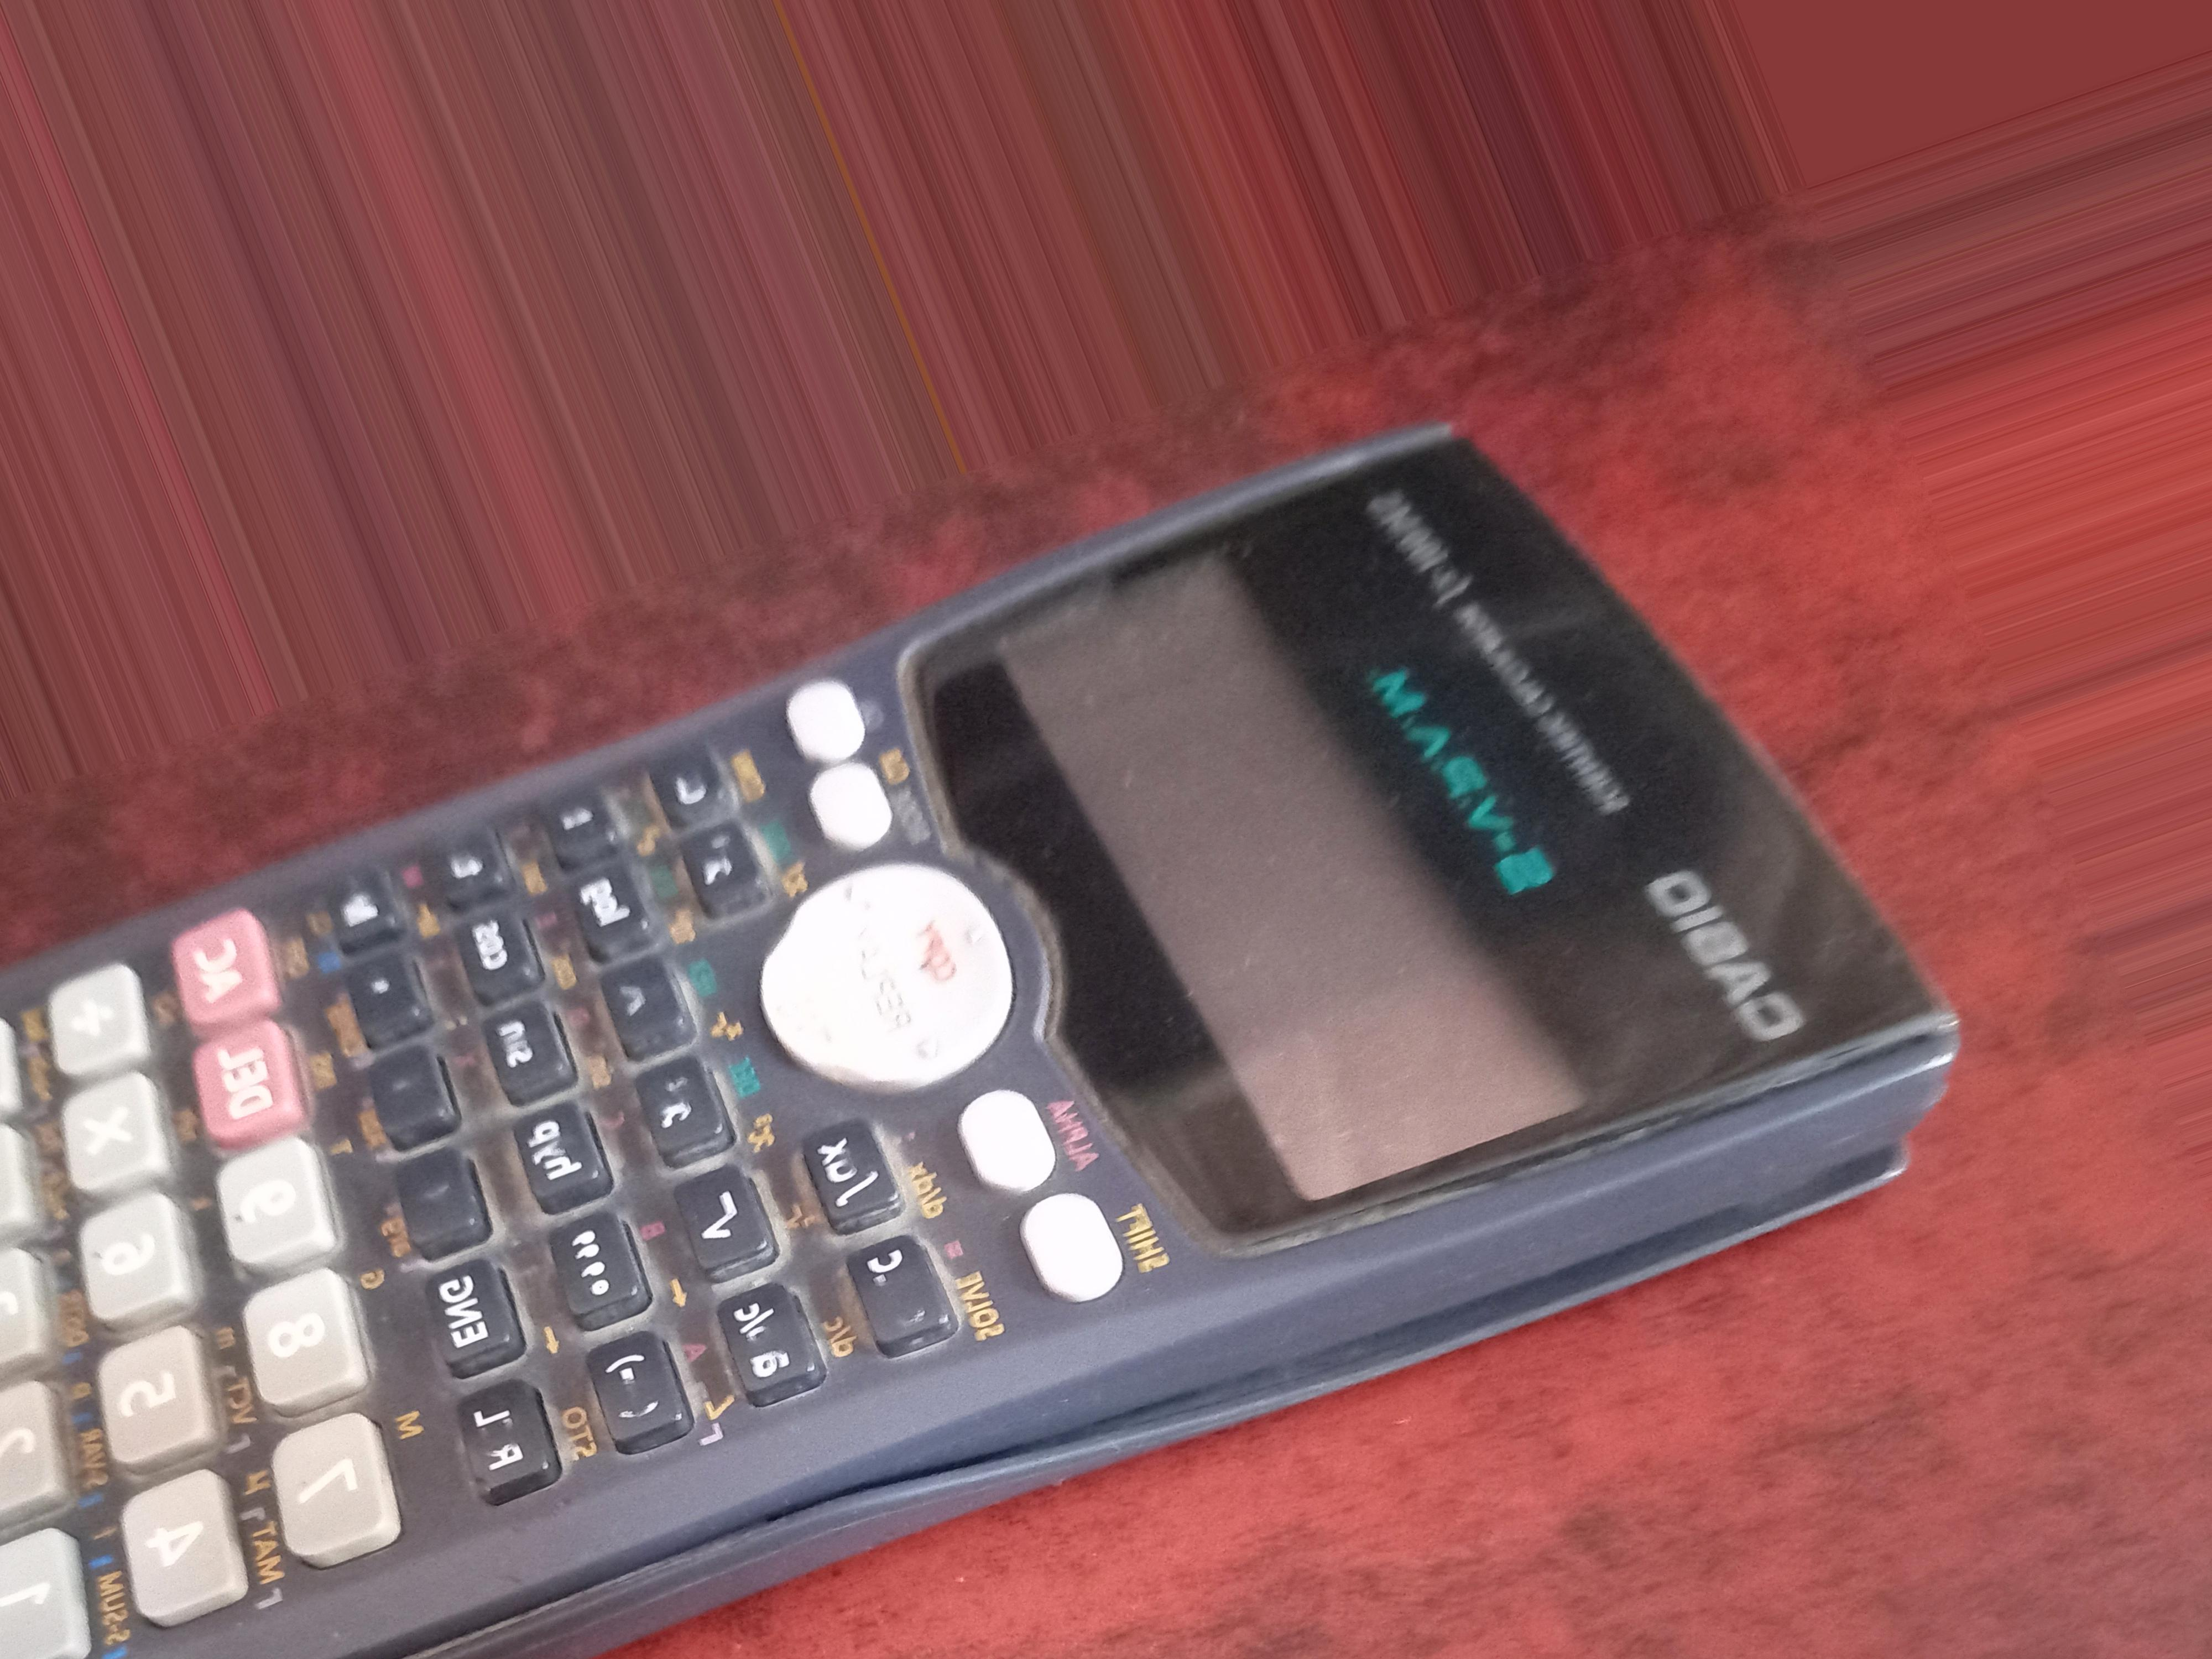calculator: (0, 422, 1890, 1659)
